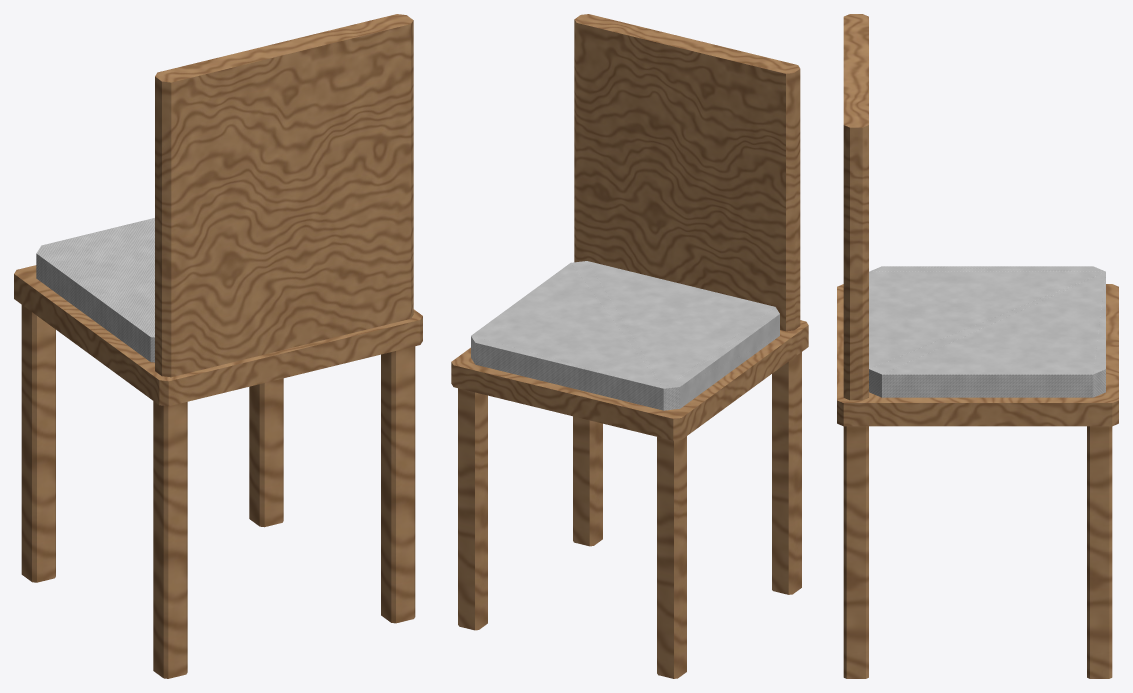
Rendered from chair.obj.
3 renders of one model, left to right at view 1: azimuth 30°, elevation 25°; view 2: azimuth 150°, elevation 25°; view 3: azimuth 270°, elevation 25°, orthographic. The views are drawn at different scales.
Parts seen in each view (by area): view 1: chair; view 2: chair; view 3: chair.
Part boxes in pixels (x1,y1,x2,y2): chair: (14, 14, 422, 678); chair: (451, 14, 808, 678); chair: (837, 14, 1118, 678).
Bounding box in the file's own units: 0.44 × 0.95 × 0.44.
2 materials, 2 textured.
